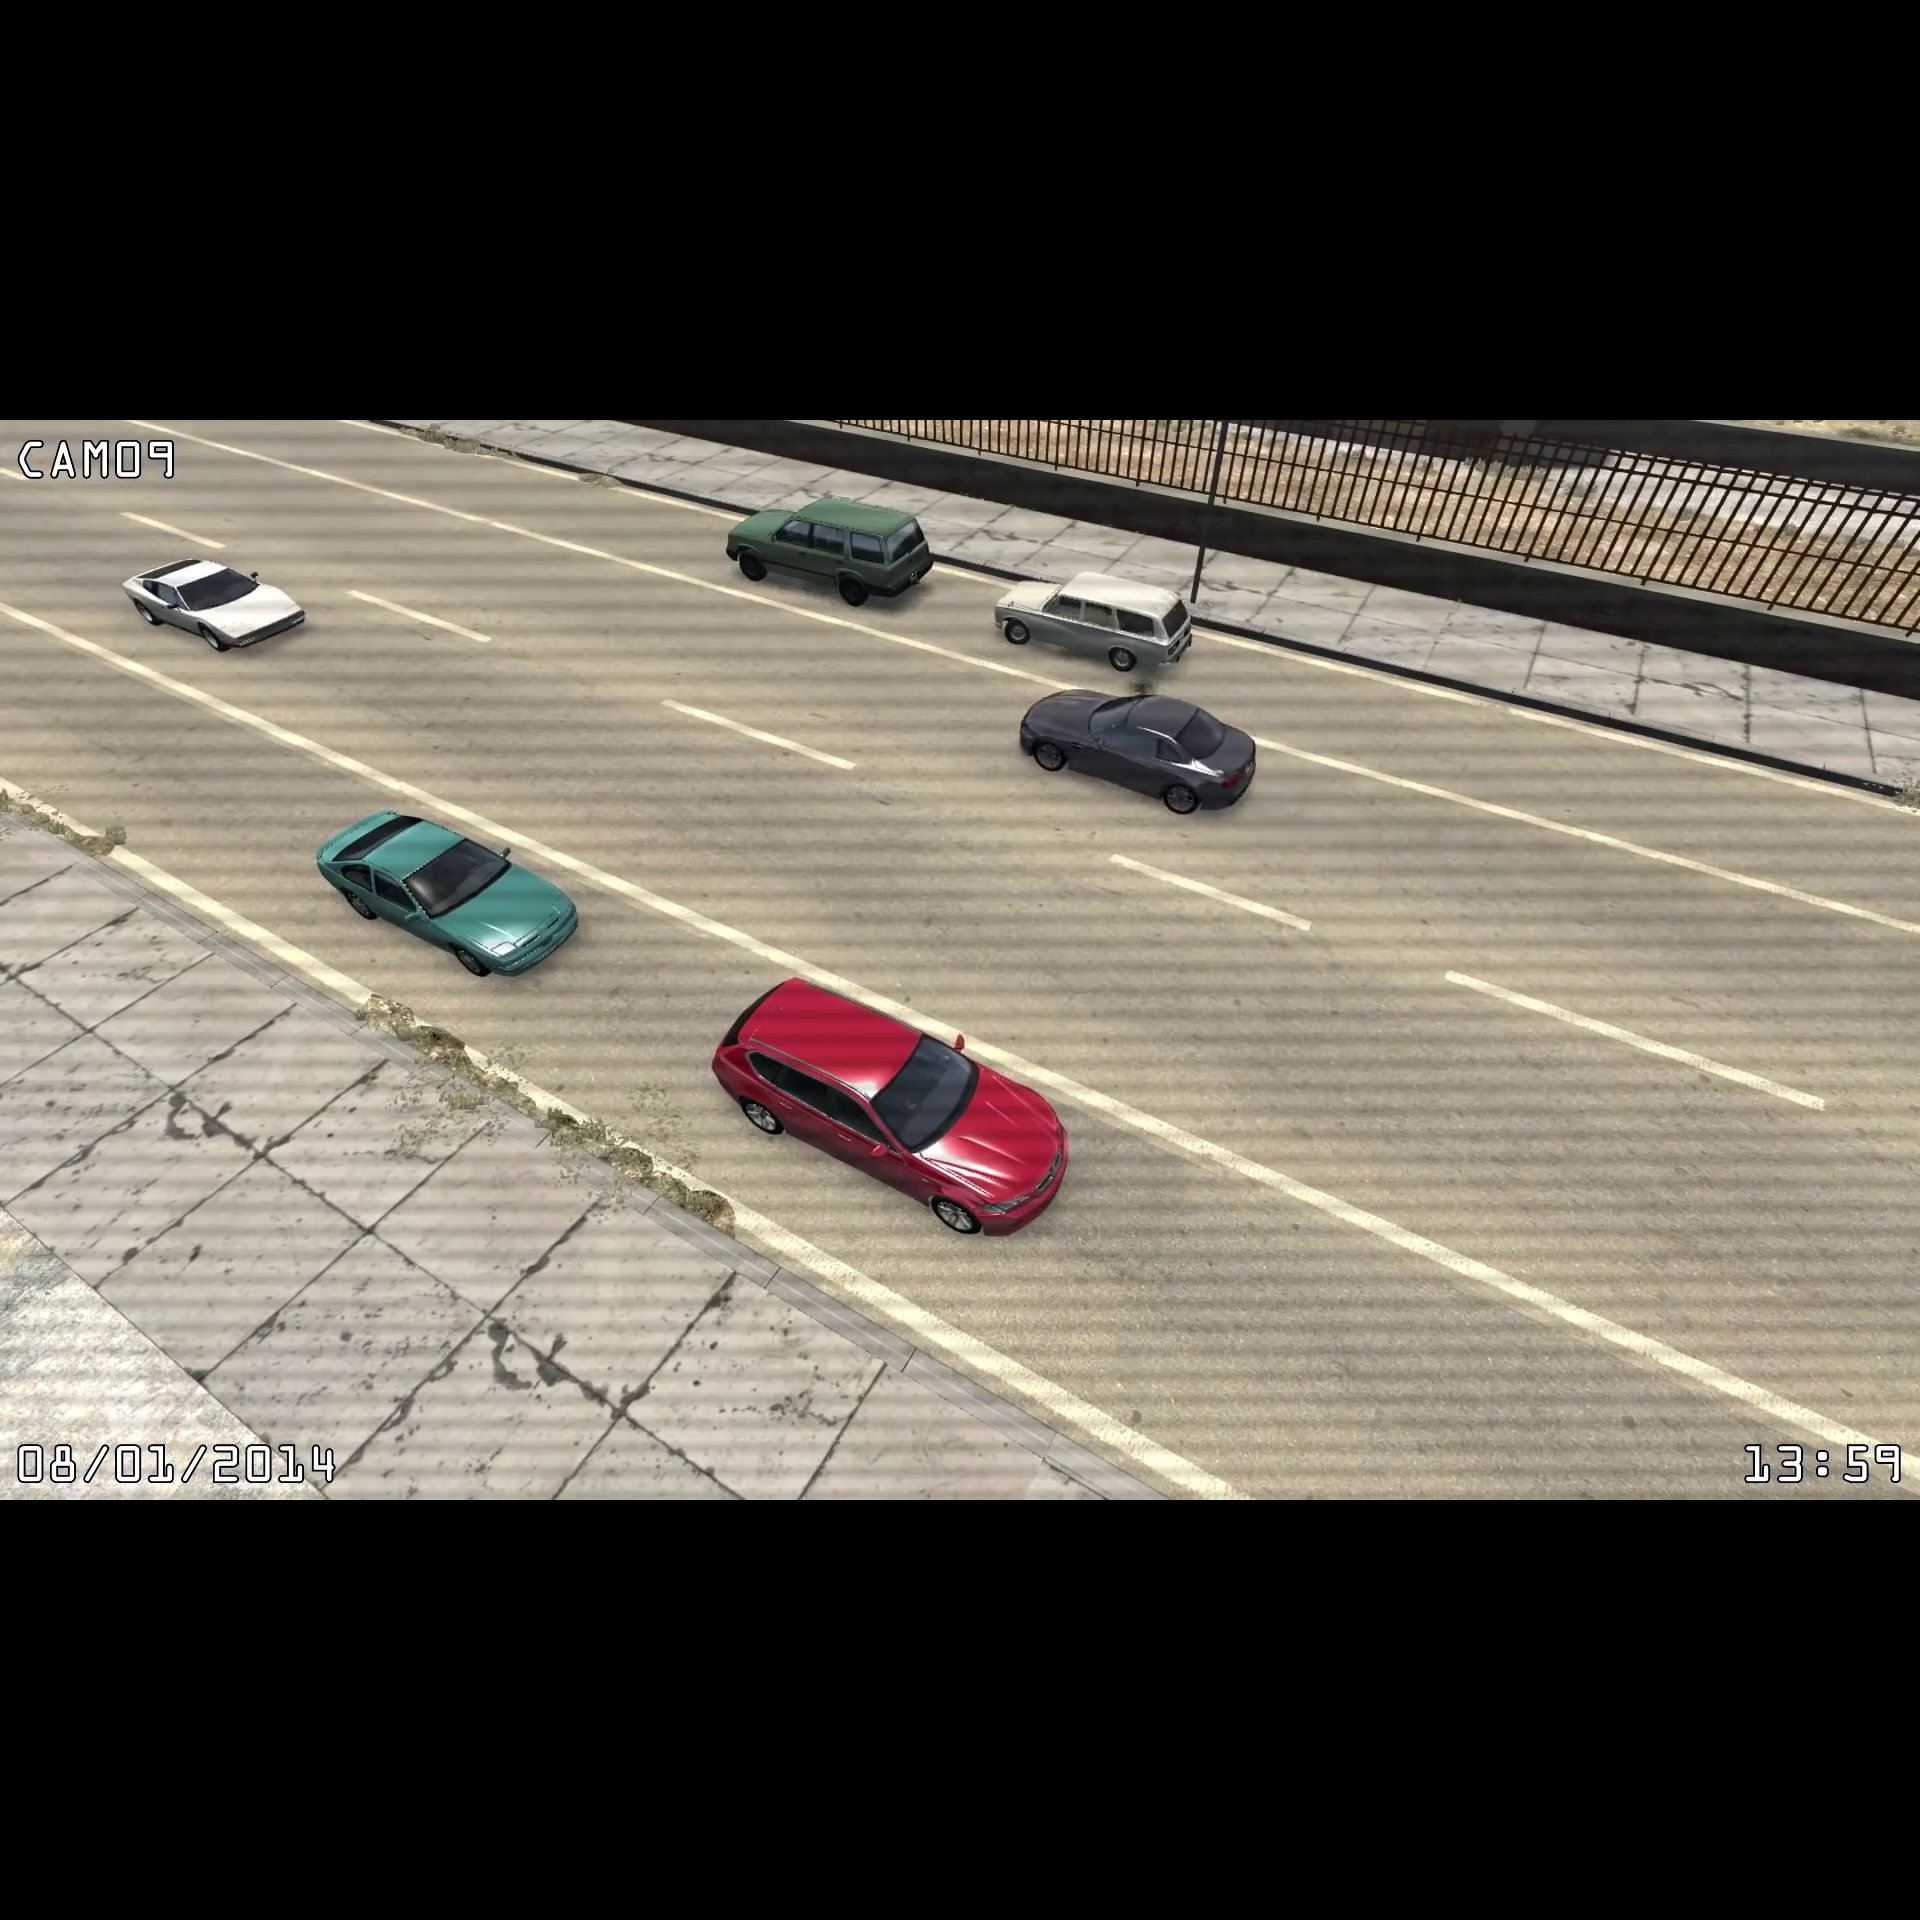vehicle: (703, 965, 1080, 1247), (308, 804, 584, 985), (1013, 682, 1271, 823), (717, 491, 941, 615), (985, 564, 1199, 680), (120, 550, 316, 658)
